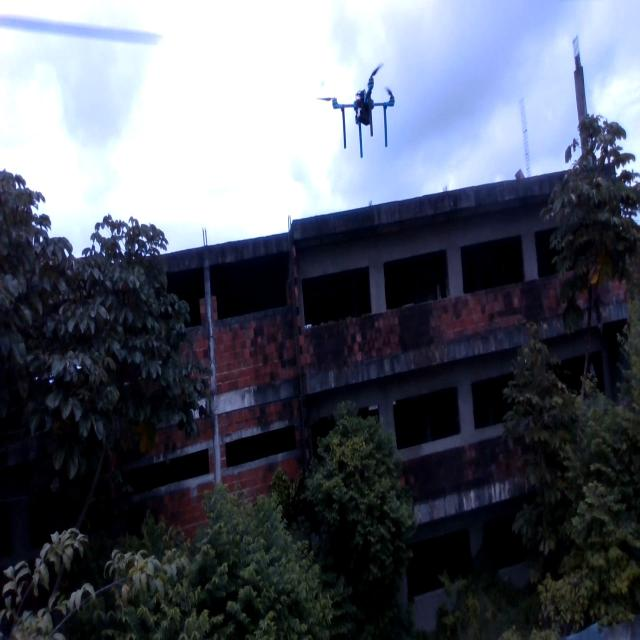-uav-: (308, 52, 408, 172)
